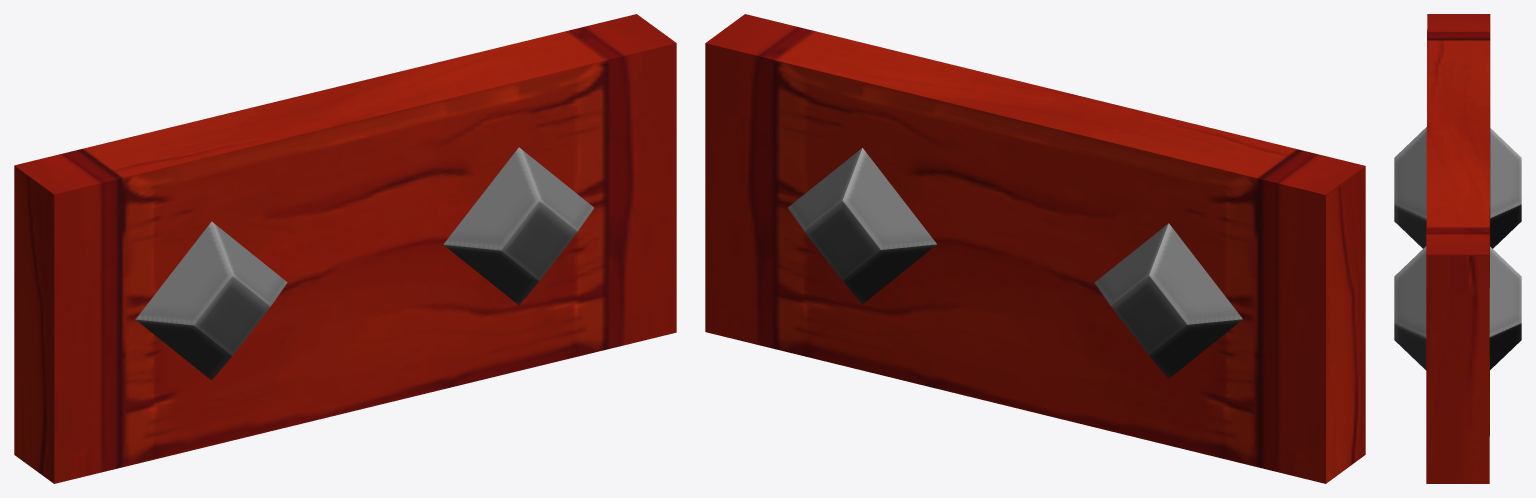
The model's file is fence_rad_01.fbx.
3 renders of one model, left to right at view 1: azimuth 30°, elevation 25°; view 2: azimuth 150°, elevation 25°; view 3: azimuth 270°, elevation 25°, orthographic. The views are drawn at different scales.
Visible parts, largest first — view 1: fence_rad_01; view 2: fence_rad_01; view 3: fence_rad_01.
Part boxes in pixels (<box>): fence_rad_01: <box>14,14,676,483</box>; fence_rad_01: <box>705,14,1365,483</box>; fence_rad_01: <box>1394,14,1521,483</box>.
Bounding box in the file's own units: 90 × 40 × 20.13.
